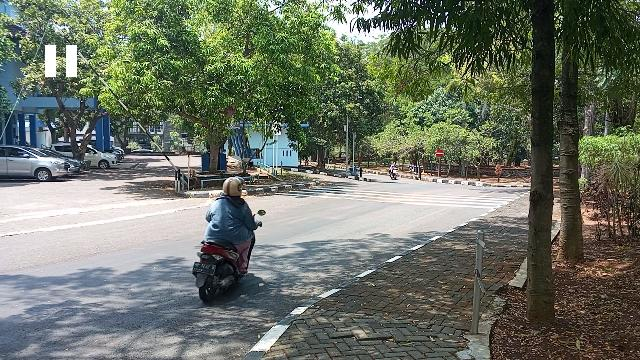helm: (223, 177, 248, 200)
motor: (191, 208, 267, 304)
